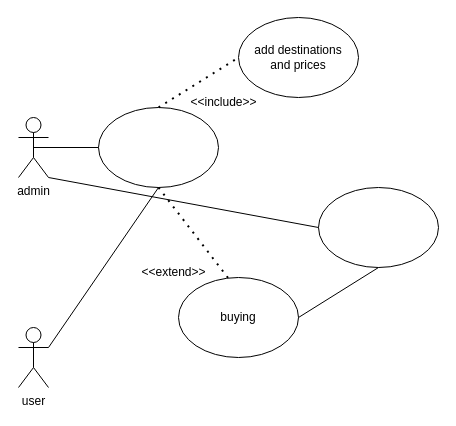
This 456x426 diagram has some shape labels left out. Each missing label, with the centre of its shape:
destinations and prices: point (158, 147)
Notifications: point (378, 227)
